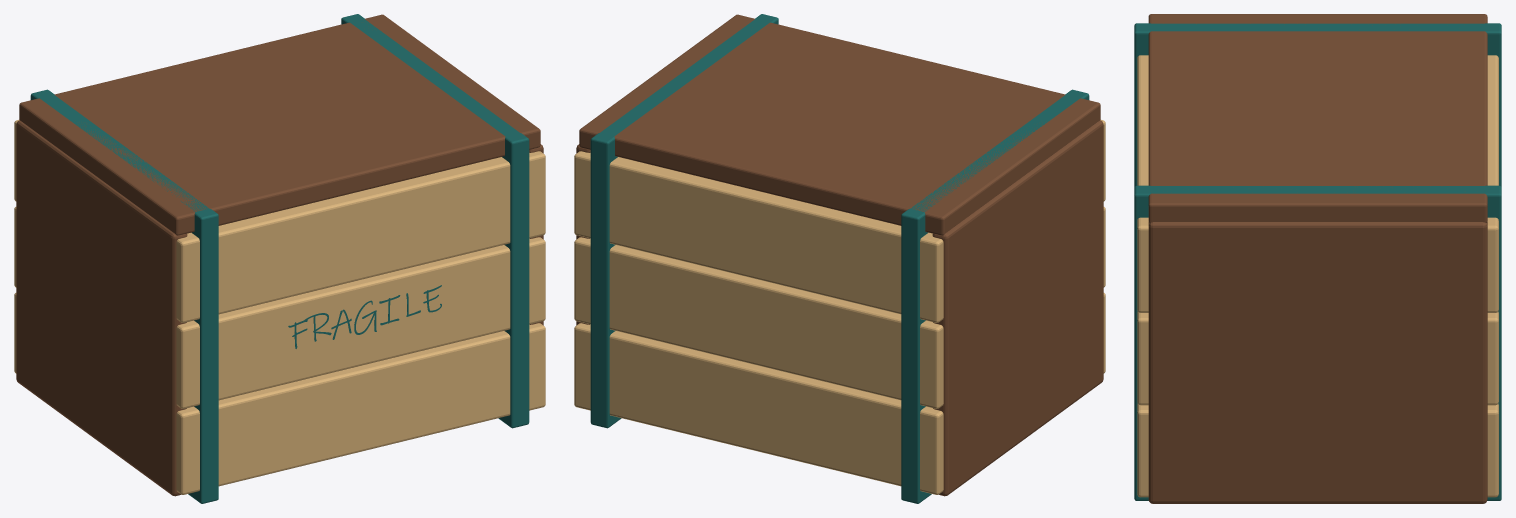
Rendered from shipping_crate.glb.
The picture shows the model from 3 angles, left to right: view 1: azimuth 30°, elevation 25°; view 2: azimuth 150°, elevation 25°; view 3: azimuth 270°, elevation 25°; orthographic projection. The views are drawn at different scales.
Visible parts, largest first — view 1: Lid, End_panel, Wood_slat.005, Wood_slat.003, Wood_slat.004, Iron_strap.001, Iron_strap, Flat_stencil; view 2: Lid, End_panel, Wood_slat.002, Wood_slat, Wood_slat.001, Iron_strap.001, Iron_strap; view 3: End_panel.001, Lid, Iron_strap.001, Iron_strap, Wood_slat.002, Wood_slat.005, Wood_slat.004, Wood_slat, Wood_slat.001, Wood_slat.003.
Part boxes in pixels (bbox=[...]): Lid: bbox=[19, 14, 540, 235]; End_panel: bbox=[16, 120, 187, 496]; Wood_slat.005: bbox=[176, 151, 545, 322]; Wood_slat.003: bbox=[176, 323, 545, 494]; Wood_slat.004: bbox=[176, 237, 545, 408]; Iron_strap.001: bbox=[341, 14, 529, 428]; Iron_strap: bbox=[30, 89, 218, 503]; Flat_stencil: bbox=[288, 285, 441, 348]; Lid: bbox=[579, 14, 1100, 235]; End_panel: bbox=[932, 120, 1103, 496]; Wood_slat.002: bbox=[574, 151, 943, 322]; Wood_slat: bbox=[574, 323, 943, 494]; Wood_slat.001: bbox=[574, 237, 943, 408]; Iron_strap.001: bbox=[590, 14, 778, 428]; Iron_strap: bbox=[901, 89, 1089, 503]; End_panel.001: bbox=[1148, 221, 1487, 503]; Lid: bbox=[1148, 14, 1487, 222]; Iron_strap.001: bbox=[1134, 185, 1501, 500]; Iron_strap: bbox=[1134, 23, 1501, 187]; Wood_slat.002: bbox=[1487, 55, 1498, 312]; Wood_slat.005: bbox=[1137, 55, 1148, 312]; Wood_slat.004: bbox=[1137, 311, 1148, 405]; Wood_slat: bbox=[1487, 403, 1498, 497]; Wood_slat.001: bbox=[1487, 311, 1498, 405]; Wood_slat.003: bbox=[1137, 404, 1148, 497].
Bounding box in the file's own units: 0.815 × 0.6 × 0.6502.
